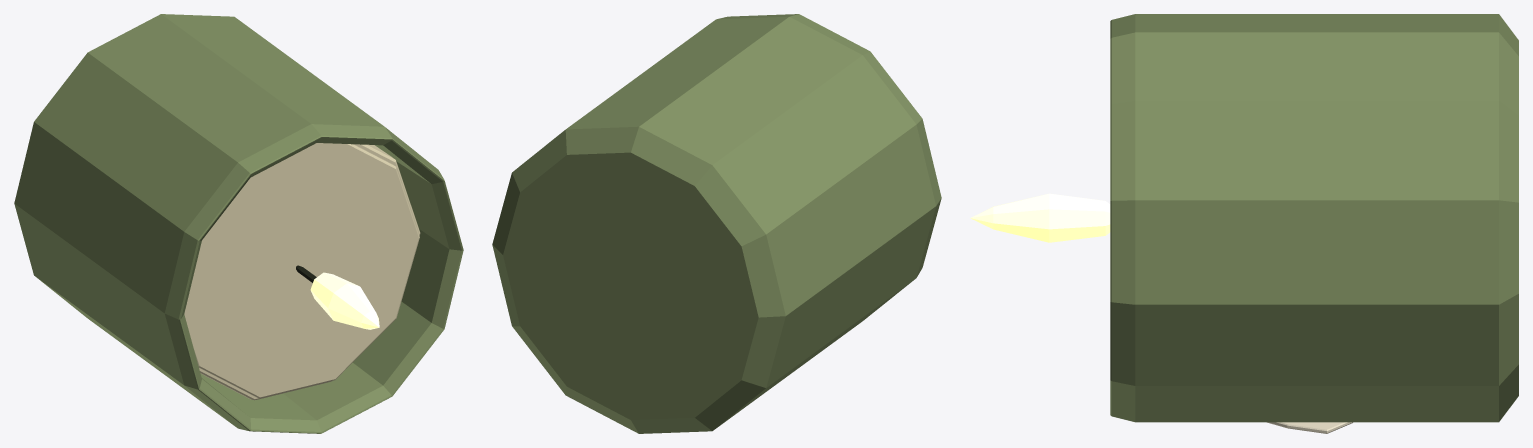
The model's file is candle.glb.
3 renders of one model, left to right at view 1: azimuth 30°, elevation 25°; view 2: azimuth 150°, elevation 25°; view 3: azimuth 270°, elevation 25°, orthographic. The views are drawn at different scales.
Visible parts, largest first — view 1: candle; view 2: candle; view 3: candle.
Boxes of the visible parts, x1,y1,x2,y2 form: candle: (14,14,463,433); candle: (492,14,941,433); candle: (970,14,1518,433).
Bounding box in the file's own units: 0.062 × 0.0634 × 0.083.
